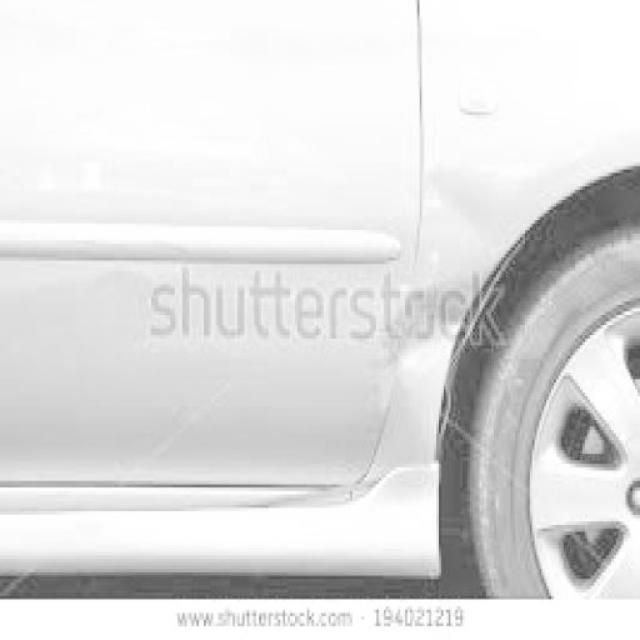car damage: (358, 149, 598, 417)
